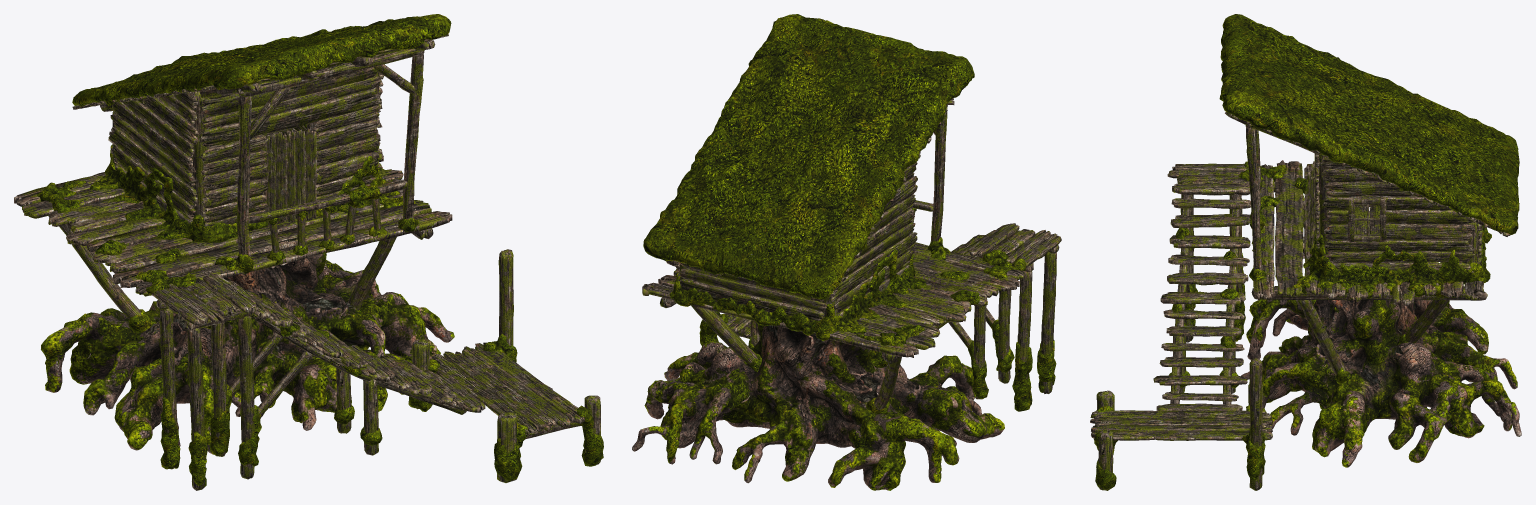
Rendered from huts.FBX.
3 renders of one model, left to right at view 1: azimuth 30°, elevation 25°; view 2: azimuth 150°, elevation 25°; view 3: azimuth 270°, elevation 25°, orthographic. The views are drawn at different scales.
Visible parts, largest first — view 1: Object065, Volume17; view 2: Object065, Volume17; view 3: Object065, Volume17.
Part boxes in pixels (x1,y1,x2,y2): Object065: (14,14,603,490); Volume17: (41,253,454,453); Object065: (642,14,1061,414); Volume17: (632,321,1004,490); Object065: (1090,14,1519,490); Volume17: (1241,222,1521,467).
Bounding box in the file's own units: 205 × 212 × 230.
